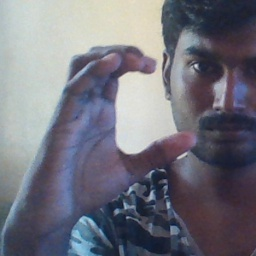C: (59, 41, 201, 175)
